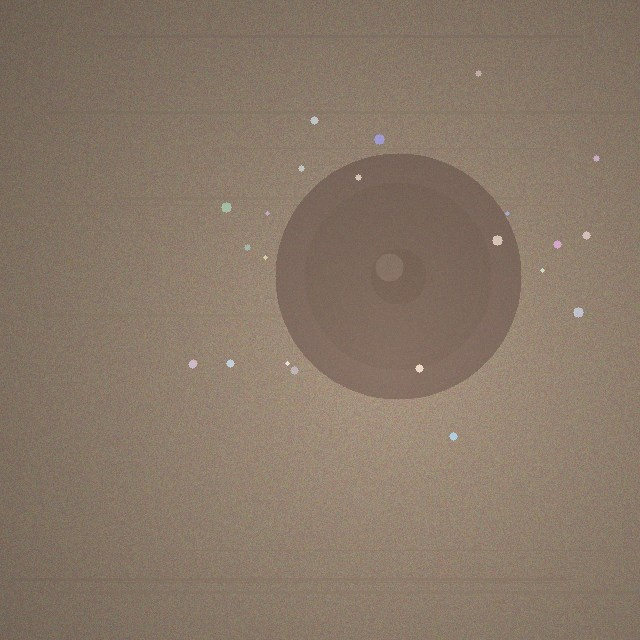overburn: (275, 153, 521, 399)
